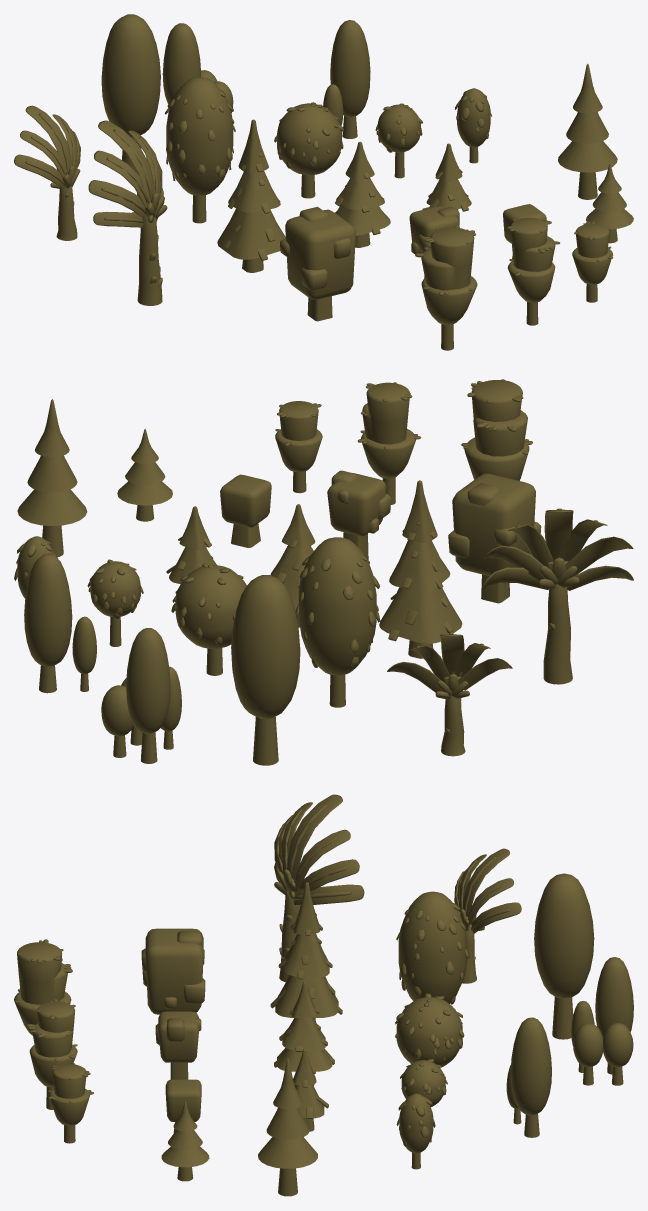
The model's file is SM_trees_PC.obj.
The picture shows the model from 3 angles, top to bottom: view 1: azimuth 30°, elevation 25°; view 2: azimuth 150°, elevation 25°; view 3: azimuth 270°, elevation 25°; orthographic projection. The views are drawn at different scales.
Parts seen in each view (by area): view 1: SM_tree14_mid, SM_tree20_mid, SM_tree4_mid, SM_tree12_mid, SM_tree8_mid, SM_tree1_mid, SM_tree13_mid, SM_tree19_mid, SM_tree11_mid, SM_tree18_mid, SM_tree2_mid, SM_tree9_mid (+8 smaller); view 2: SM_tree14_mid, SM_tree20_mid, SM_tree12_mid, SM_tree4_mid, SM_tree8_mid, SM_tree10_mid, SM_tree11_mid, SM_tree1_mid, SM_tree13_mid, SM_tree19_mid, SM_tree18_mid, SM_tree2_mid (+8 smaller); view 3: SM_tree12_mid, SM_tree20_mid, SM_tree14_mid, SM_tree10_mid, SM_tree4_mid, SM_tree8_mid, SM_tree11_mid, SM_tree13_mid, SM_tree18_mid, SM_tree19_mid, SM_tree1_mid, SM_tree2_mid (+8 smaller).
Part boxes in pixels (bbox=[...]): SM_tree14_mid: bbox=[165, 77, 235, 223]; SM_tree20_mid: bbox=[88, 120, 167, 305]; SM_tree4_mid: bbox=[280, 206, 355, 321]; SM_tree12_mid: bbox=[101, 14, 160, 175]; SM_tree8_mid: bbox=[217, 119, 285, 272]; SM_tree1_mid: bbox=[415, 225, 477, 350]; SM_tree13_mid: bbox=[274, 102, 343, 198]; SM_tree19_mid: bbox=[14, 105, 80, 240]; SM_tree11_mid: bbox=[323, 20, 370, 138]; SM_tree18_mid: bbox=[558, 63, 617, 199]; SM_tree2_mid: bbox=[507, 217, 559, 325]; SM_tree9_mid: bbox=[335, 141, 390, 247]; SM_tree14_mid: bbox=[295, 537, 380, 707]; SM_tree20_mid: bbox=[481, 508, 633, 684]; SM_tree12_mid: bbox=[231, 575, 300, 765]; SM_tree4_mid: bbox=[448, 473, 541, 603]; SM_tree8_mid: bbox=[379, 480, 462, 658]; SM_tree10_mid: bbox=[101, 628, 181, 763]; SM_tree11_mid: bbox=[24, 554, 96, 693]; SM_tree1_mid: bbox=[461, 379, 532, 480]; SM_tree13_mid: bbox=[171, 563, 246, 675]; SM_tree19_mid: bbox=[387, 633, 512, 756]; SM_tree18_mid: bbox=[17, 399, 87, 557]; SM_tree2_mid: bbox=[357, 382, 421, 504]; SM_tree12_mid: bbox=[534, 873, 594, 1039]; SM_tree20_mid: bbox=[274, 794, 364, 982]; SM_tree14_mid: bbox=[396, 891, 469, 1004]; SM_tree10_mid: bbox=[571, 957, 633, 1085]; SM_tree4_mid: bbox=[141, 928, 205, 1014]; SM_tree8_mid: bbox=[270, 882, 342, 1021]; SM_tree11_mid: bbox=[506, 1017, 551, 1137]; SM_tree13_mid: bbox=[395, 993, 464, 1066]; SM_tree18_mid: bbox=[258, 1059, 317, 1196]; SM_tree19_mid: bbox=[454, 848, 521, 983]; SM_tree1_mid: bbox=[14, 939, 72, 1035]; SM_tree2_mid: bbox=[26, 999, 77, 1109].
Size of the model in its own units: 163 by 49.59 by 165.
